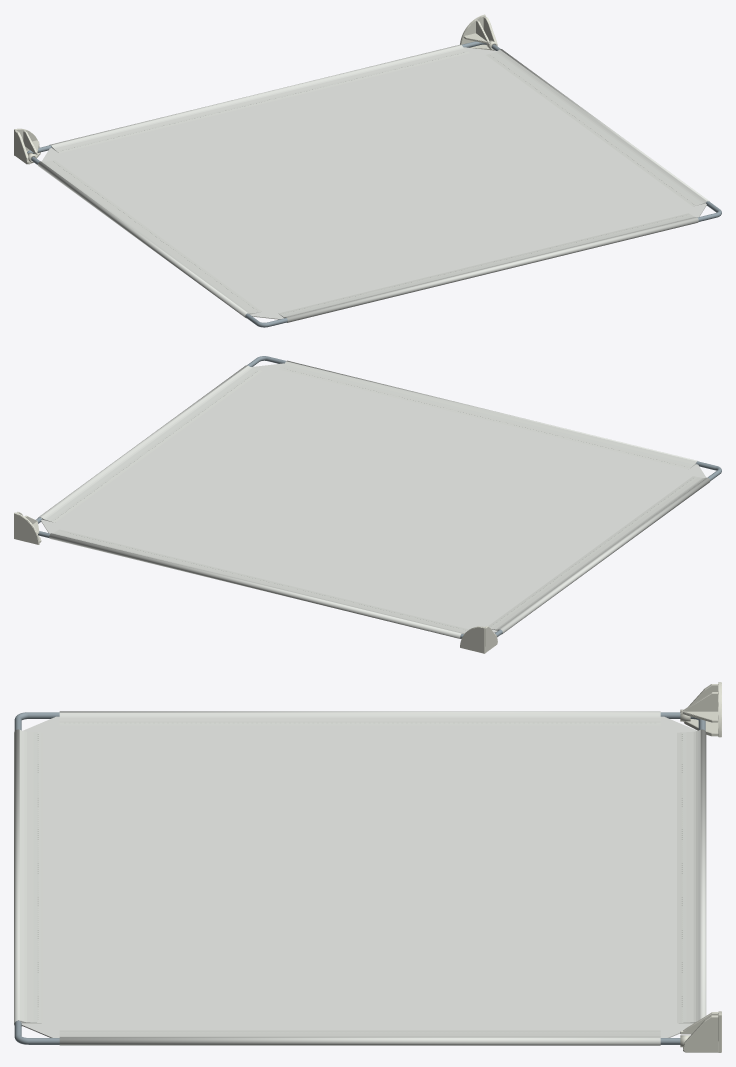
Rendered from dam_board.obj.
3 renders of one model, top to bottom at view 1: azimuth 30°, elevation 25°; view 2: azimuth 150°, elevation 25°; view 3: azimuth 270°, elevation 25°, orthographic. The views are drawn at different scales.
Size of the model in its own units: 0.4542 by 0.024 by 0.408.
Materials: 1 (1 with a texture image).
